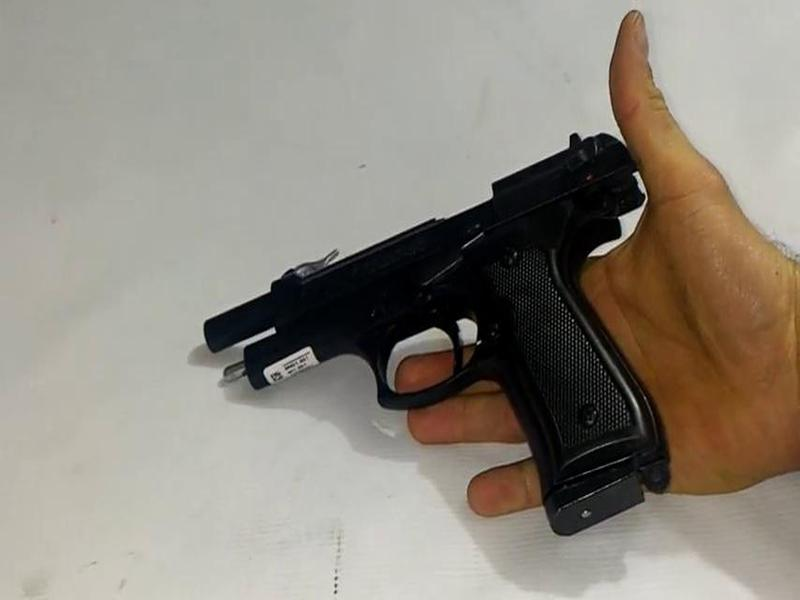Pistola: (187, 110, 726, 571)
